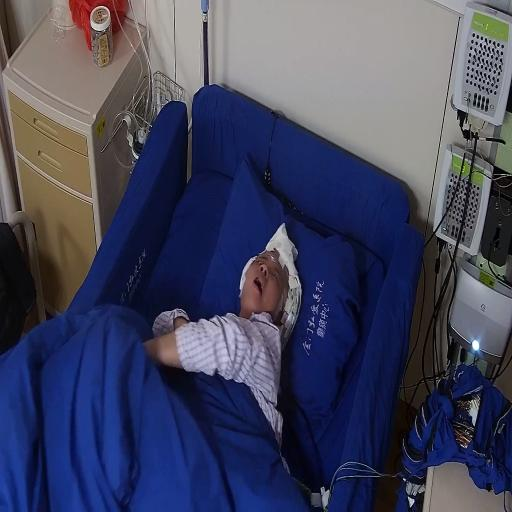Seizure: (242, 237, 288, 319)
